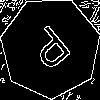P: (25, 23, 80, 80)
